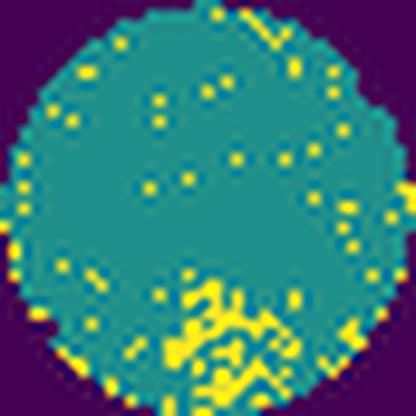Edge-Loc: (166, 276, 301, 368), (195, 358, 295, 403), (210, 340, 244, 368)
